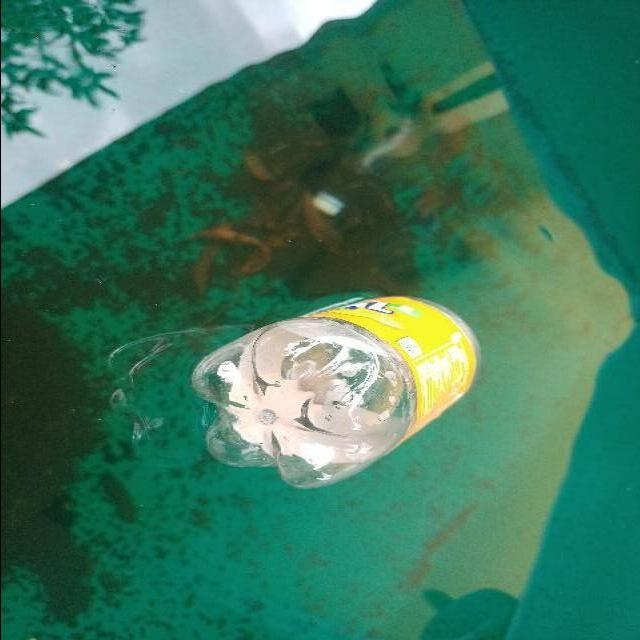Bottle: (181, 278, 488, 497)
